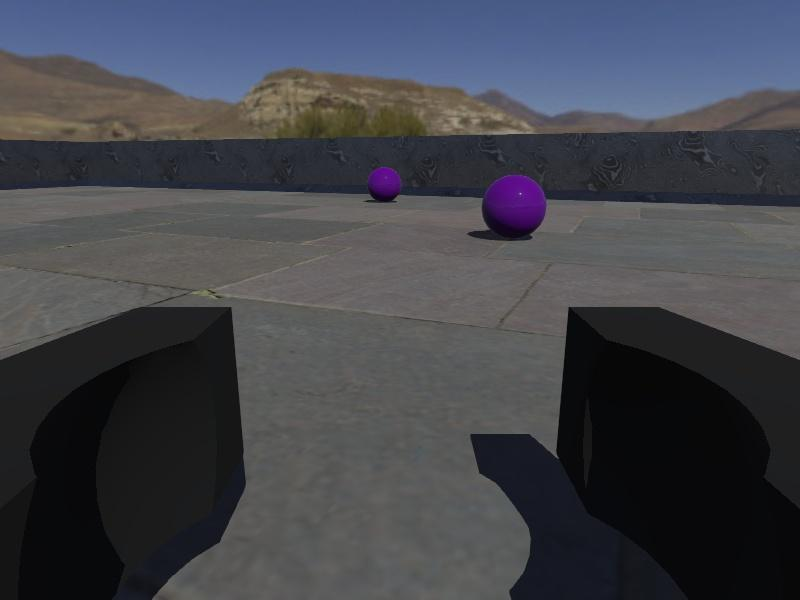violet ball: (482, 173, 548, 241), (366, 167, 403, 202)
